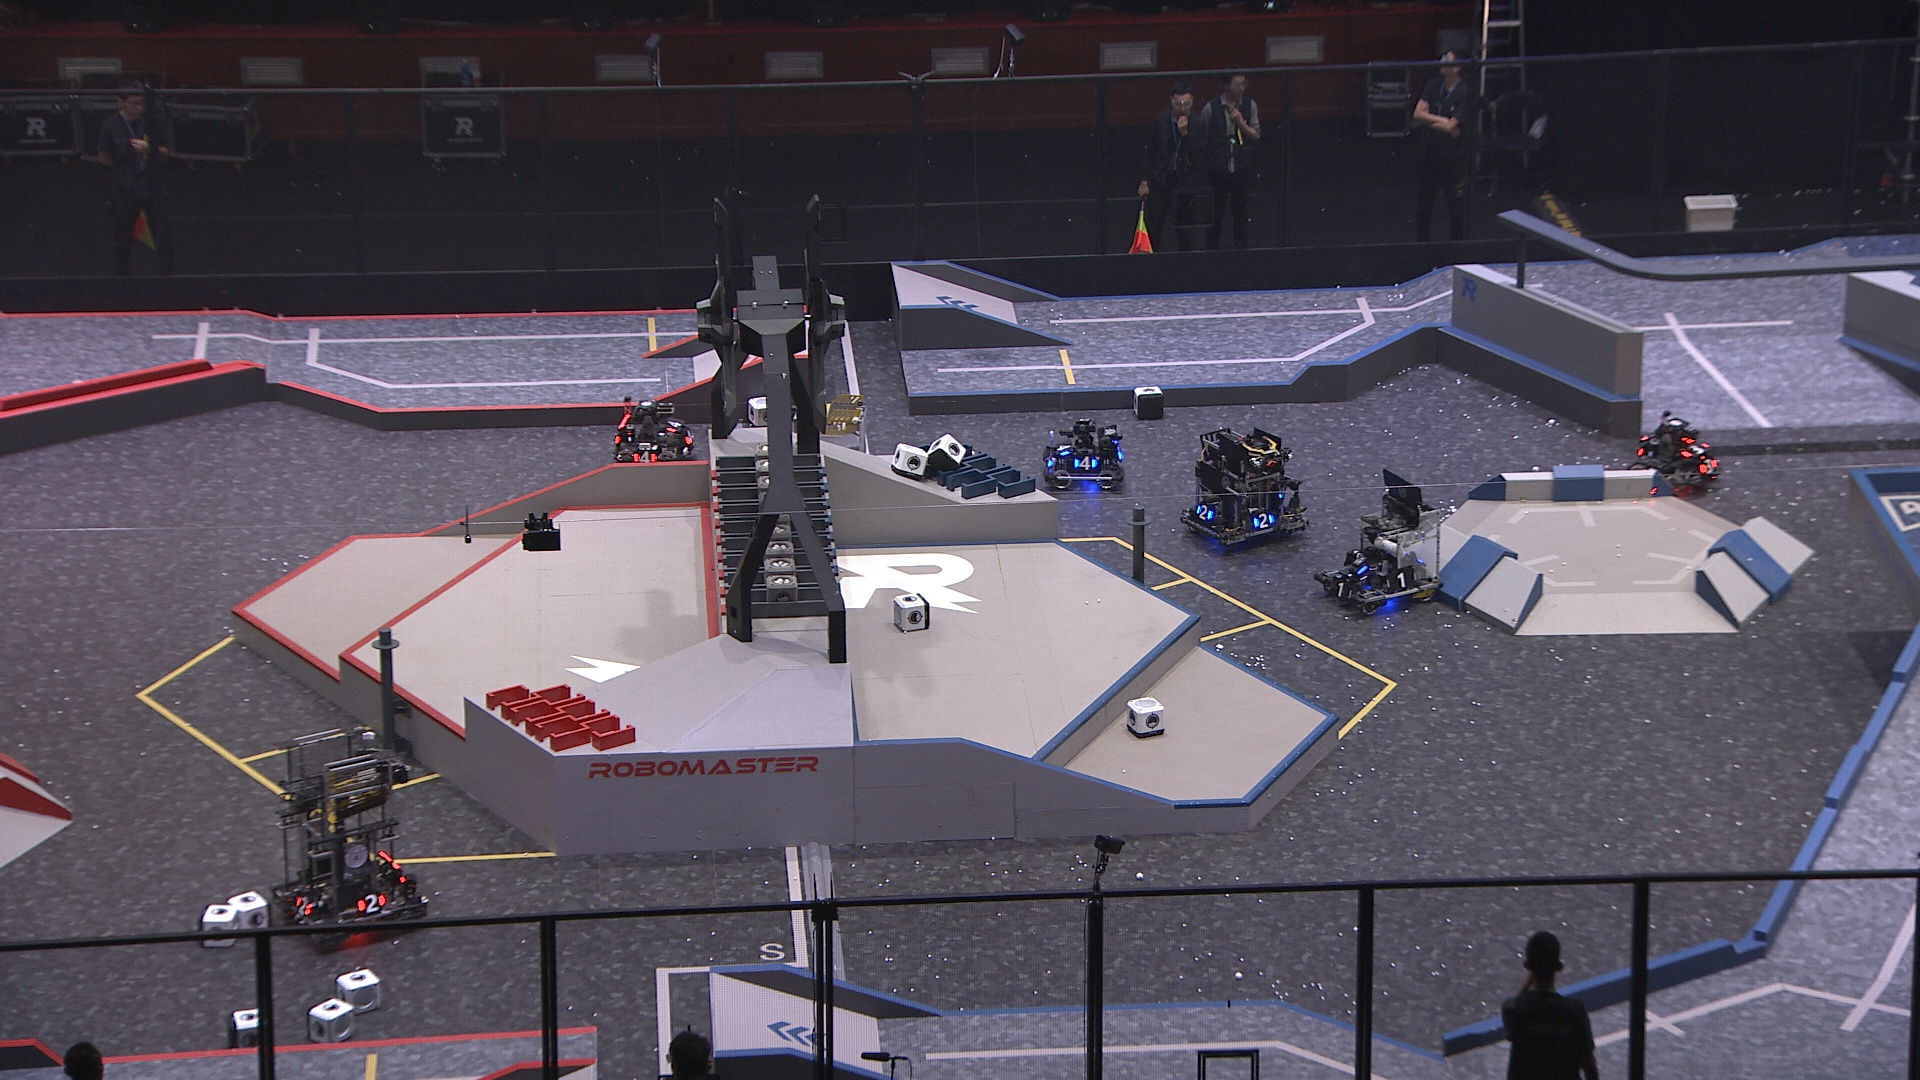armor: (356, 893, 386, 913), (1331, 579, 1356, 603), (1389, 572, 1420, 589), (294, 893, 313, 920), (1681, 440, 1709, 458), (1069, 456, 1097, 473), (626, 450, 659, 463), (1698, 456, 1718, 475), (1055, 440, 1073, 460), (1193, 502, 1212, 522), (665, 415, 684, 433), (1253, 513, 1273, 529), (684, 429, 698, 444)
car: (273, 725, 433, 945), (1313, 469, 1447, 616), (1182, 422, 1309, 550), (1627, 413, 1724, 505), (793, 392, 882, 483), (605, 398, 699, 475), (1040, 413, 1125, 491)
